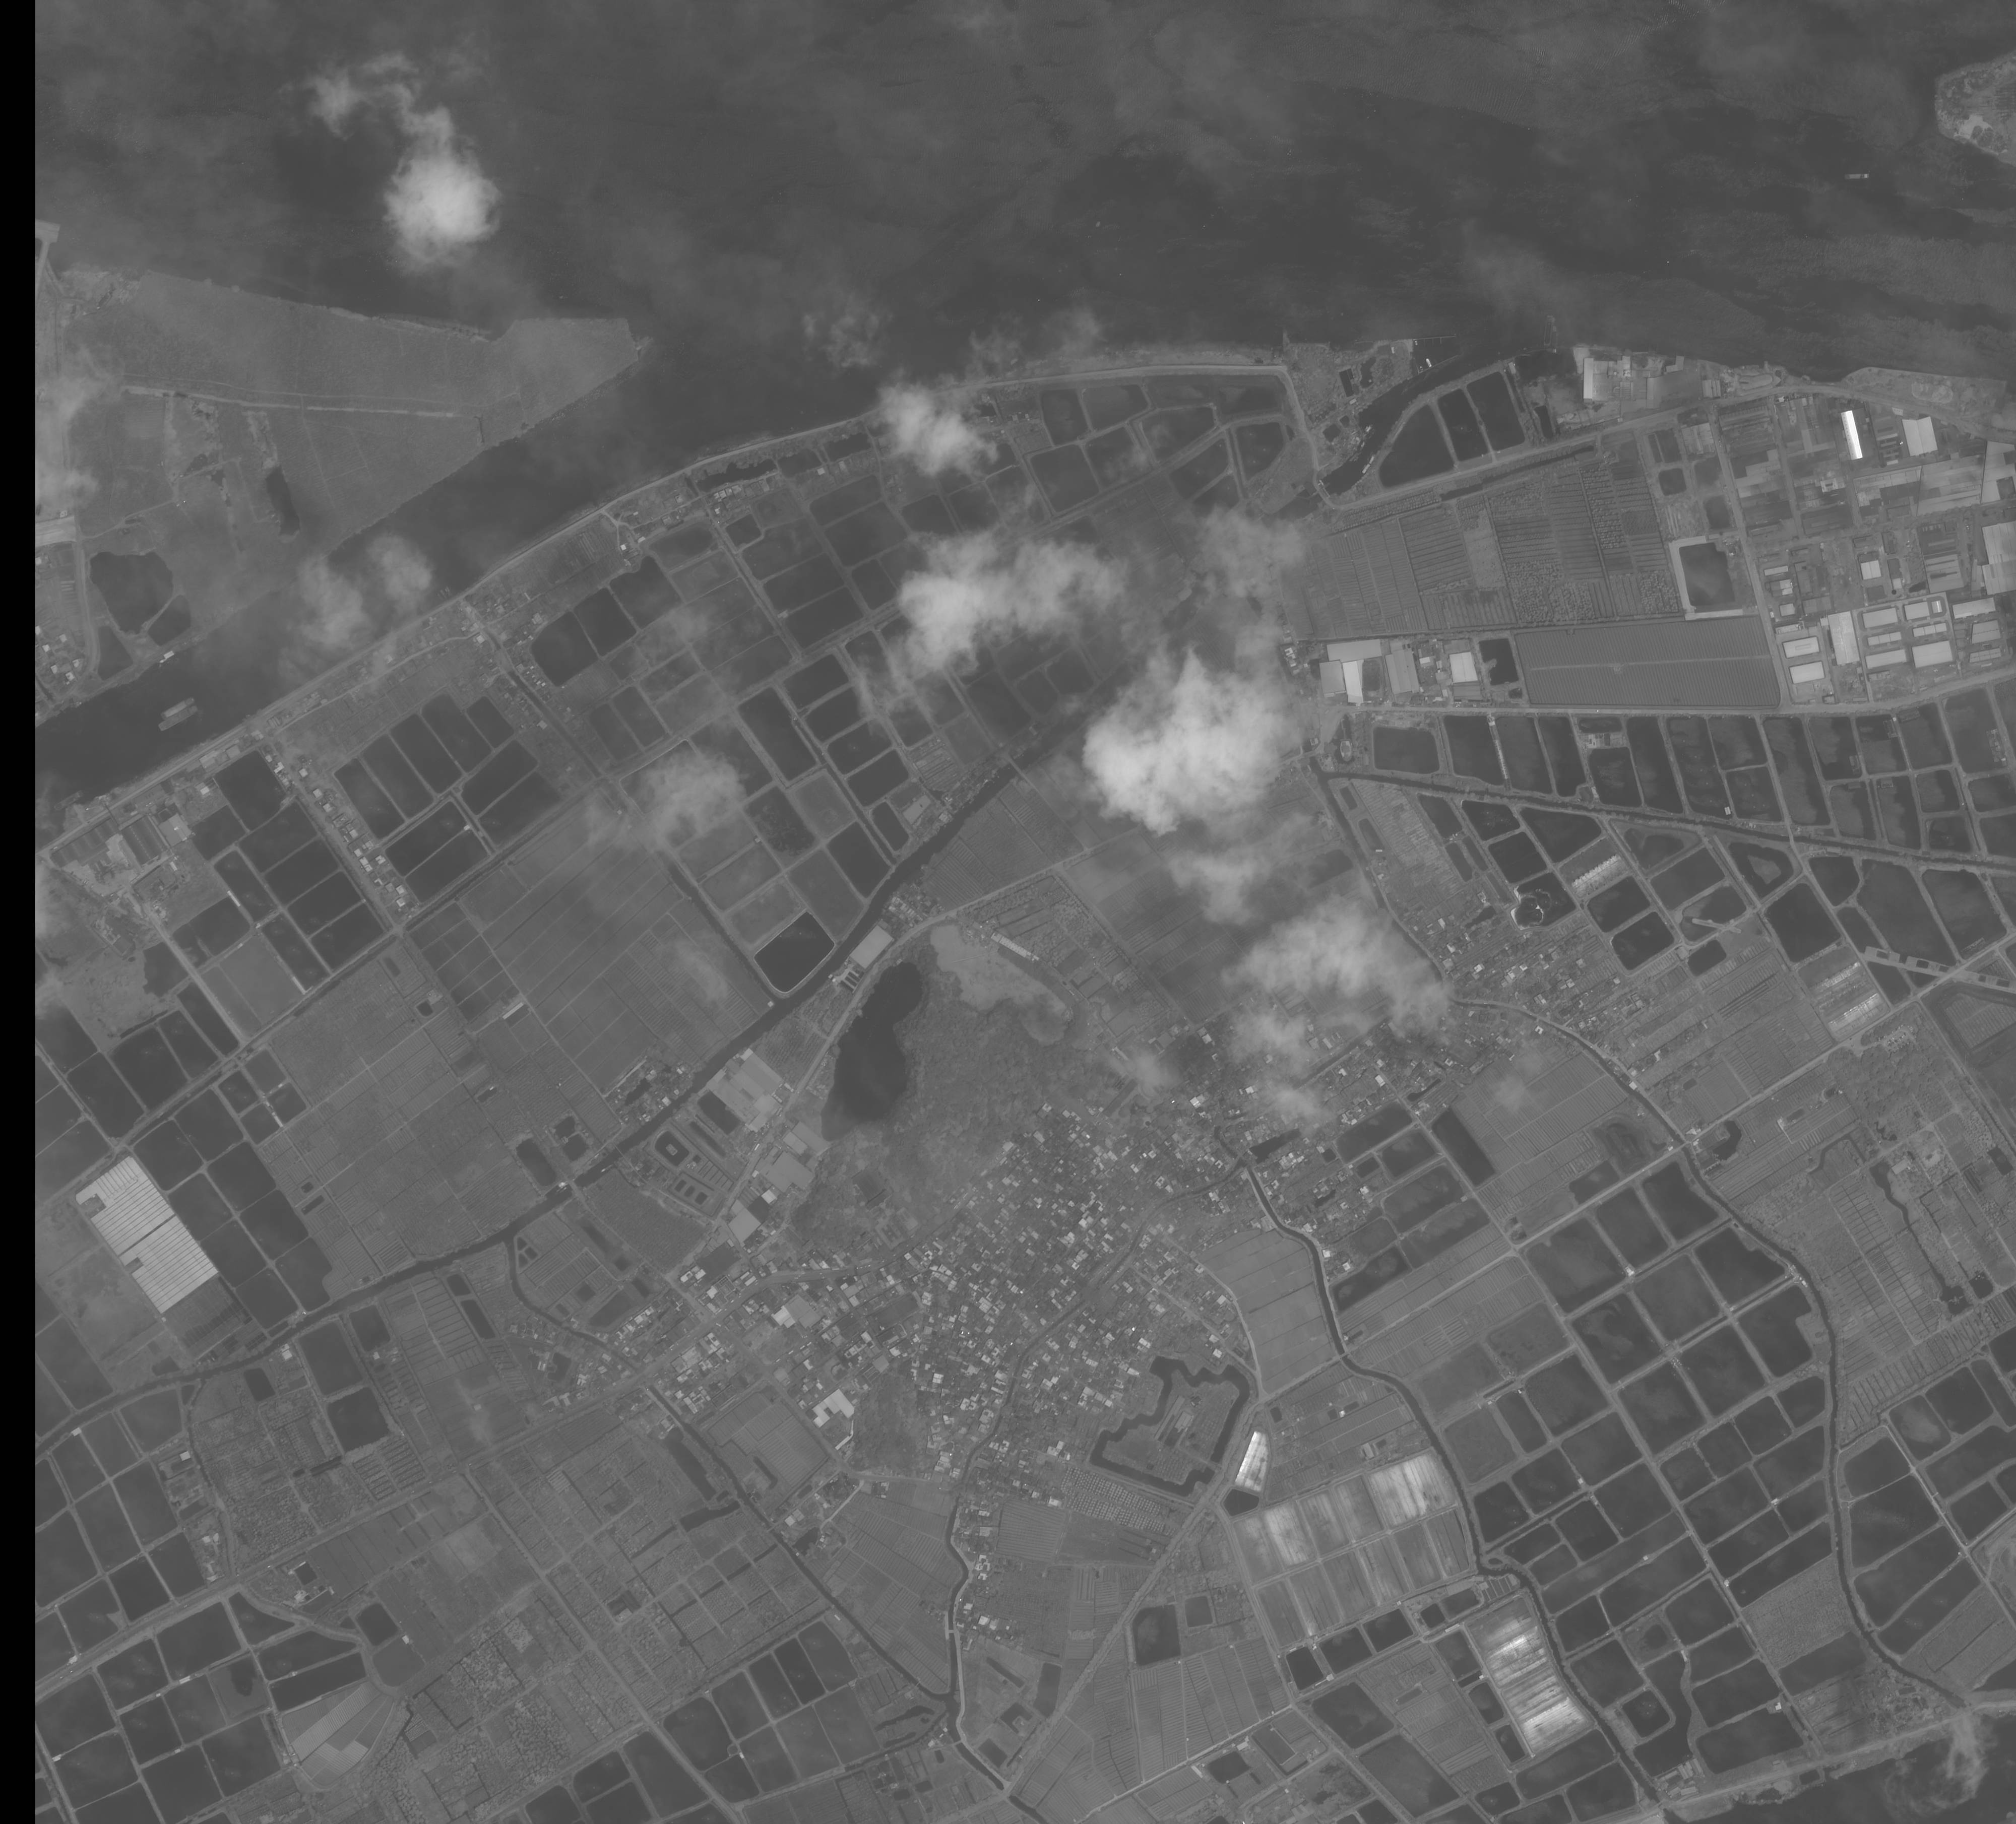bridge: (1008, 758, 1024, 774), (1307, 751, 1315, 758), (1789, 837, 1795, 843), (948, 1629, 954, 1634)
harbor: (1412, 334, 1459, 346)
ship: (155, 704, 204, 736), (156, 695, 198, 723), (51, 786, 88, 815), (1542, 314, 1554, 346), (1842, 172, 1872, 183), (1424, 356, 1435, 369)
